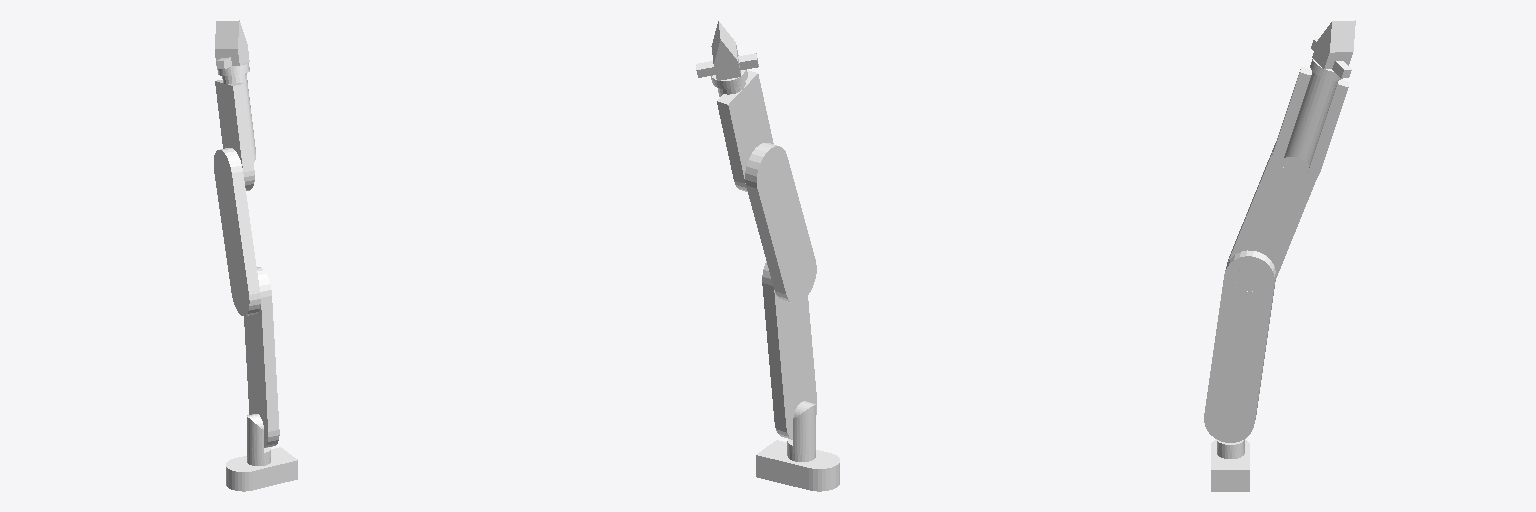
The robot description file, URDF, robot "robot_arm_urdf":
<?xml version="1.0" encoding="utf-8"?>
<!-- This URDF was automatically created by SolidWorks to URDF Exporter! Originally created by [author] ([email redacted]) 
     Commit Version: 1.6.0-4-g7f85cfe  Build Version: 1.6.7995.38578
     For more information, please see http://wiki.ros.org/sw_urdf_exporter -->
<robot
  name="robot_arm_urdf">
<link name="world"/>
  <joint name="base_joint" type="fixed">
    <parent link="world"/>
    <child link="base_link"/>
    <origin rpy="0 0 0" xyz="0.0 0.0 0.17"/>
  </joint>
  <link
    name="base_link">
    <inertial>
      <origin
        xyz="0.0047164 -2.0956E-18 0.032539"
        rpy="0 0 0" />
      <mass
        value="1.2975" />
      <inertia
        ixx="0.001476"
        ixy="-1.2756E-19"
        ixz="1.5537E-05"
        iyy="0.0042174"
        iyz="-3.1508E-20"
        izz="0.004712" />
    </inertial>
    <visual>
      <origin
        xyz="0 0 0"
        rpy="0 0 0" />
      <geometry>
        <mesh
          filename="package://robot_arm_urdf/meshes/base_link.STL" />
      </geometry>
      <material
        name="">
        <color
          rgba="1 1 1 0.35" />
      </material>
    </visual>
    <collision>
      <origin
        xyz="0 0 0"
        rpy="0 0 0" />
      <geometry>
        <mesh
          filename="package://robot_arm_urdf/meshes/base_link.STL" />
      </geometry>
    </collision>
  </link>
  <link
    name="link_1">
    <inertial>
      <origin
        xyz="-0.0013006 0.00013427 0.065249"
        rpy="0 0 0" />
      <mass
        value="0.43177" />
      <inertia
        ixx="0.00069352"
        ixy="1.938E-06"
        ixz="-4.5727E-05"
        iyy="0.00071209"
        iyz="4.7207E-06"
        izz="0.00027594" />
    </inertial>
    <visual>
      <origin
        xyz="0 0 0"
        rpy="0 0 0" />
      <geometry>
        <mesh
          filename="package://robot_arm_urdf/meshes/link_1.STL" />
      </geometry>
      <material
        name="">
        <color
          rgba="1 1 1 0.35" />
      </material>
    </visual>
    <collision>
      <origin
        xyz="0 0 0"
        rpy="0 0 0" />
      <geometry>
        <mesh
          filename="package://robot_arm_urdf/meshes/link_1.STL" />
      </geometry>
    </collision>
  </link>
  <joint
    name="joint_1"
    type="revolute">
    <origin
      xyz="0 0 0.08"
      rpy="0 0 0" />
    <parent
      link="base_link" />
    <child
      link="link_1" />
    <axis
      xyz="0 0 1" />
    <limit
      lower="0"
      upper="0"
      effort="0"
      velocity="0" />
  </joint>
  <link
    name="link_2">
    <inertial>
      <origin
        xyz="0.025681 0.19834 -0.0175"
        rpy="0 0 0" />
      <mass
        value="2.1562" />
      <inertia
        ixx="0.03985"
        ixy="-0.0047194"
        ixz="4.3368E-19"
        iyy="0.0040105"
        iyz="4.9657E-19"
        izz="0.04342" />
    </inertial>
    <visual>
      <origin
        xyz="0 0 0"
        rpy="0 0 0" />
      <geometry>
        <mesh
          filename="package://robot_arm_urdf/meshes/link_2.STL" />
      </geometry>
      <material
        name="">
        <color
          rgba="1 1 1 0.35" />
      </material>
    </visual>
    <collision>
      <origin
        xyz="0 0 0"
        rpy="0 0 0" />
      <geometry>
        <mesh
          filename="package://robot_arm_urdf/meshes/link_2.STL" />
      </geometry>
    </collision>
  </link>
  <joint
    name="joint_2"
    type="revolute">
    <origin
      xyz="0.034815 -0.0035942 0.09"
      rpy="1.5708 0 1.4679" />
    <parent
      link="link_1" />
    <child
      link="link_2" />
    <axis
      xyz="0 0 -1" />
    <limit
      lower="0"
      upper="0"
      effort="0"
      velocity="0" />
  </joint>
  <link
    name="link_3">
    <inertial>
      <origin
        xyz="0.059774 0.16448 -0.048447"
        rpy="0 0 0" />
      <mass
        value="2.4893" />
      <inertia
        ixx="0.042309"
        ixy="-0.014075"
        ixz="5.2909E-17"
        iyy="0.0086947"
        iyz="1.2702E-16"
        izz="0.049871" />
    </inertial>
    <visual>
      <origin
        xyz="0 0 0"
        rpy="0 0 0" />
      <geometry>
        <mesh
          filename="package://robot_arm_urdf/meshes/link_3.STL" />
      </geometry>
      <material
        name="">
        <color
          rgba="1 1 1 0.35" />
      </material>
    </visual>
    <collision>
      <origin
        xyz="0 0 0"
        rpy="0 0 0" />
      <geometry>
        <mesh
          filename="package://robot_arm_urdf/meshes/link_3.STL" />
      </geometry>
    </collision>
  </link>
  <joint
    name="joint_3"
    type="revolute">
    <origin
      xyz="0.051362 0.39669 0"
      rpy="0 0 0" />
    <parent
      link="link_2" />
    <child
      link="link_3" />
    <axis
      xyz="0 0 1" />
    <limit
      lower="0"
      upper="0"
      effort="0"
      velocity="0" />
  </joint>
  <link
    name="link_4">
    <inertial>
      <origin
        xyz="0.038397 0.1283 -0.0082921"
        rpy="0 0 0" />
      <mass
        value="1.981" />
      <inertia
        ixx="0.015797"
        ixy="-0.0039071"
        ixz="-0.0001715"
        iyy="0.0039116"
        iyz="-0.00057309"
        izz="0.018501" />
    </inertial>
    <visual>
      <origin
        xyz="0 0 0"
        rpy="0 0 0" />
      <geometry>
        <mesh
          filename="package://robot_arm_urdf/meshes/link_4.STL" />
      </geometry>
      <material
        name="">
        <color
          rgba="1 1 1 0.35" />
      </material>
    </visual>
    <collision>
      <origin
        xyz="0 0 0"
        rpy="0 0 0" />
      <geometry>
        <mesh
          filename="package://robot_arm_urdf/meshes/link_4.STL" />
      </geometry>
    </collision>
  </link>
  <joint
    name="joint_4"
    type="revolute">
    <origin
      xyz="0.11955 0.32895 0"
      rpy="0 0 0" />
    <parent
      link="link_3" />
    <child
      link="link_4" />
    <axis
      xyz="0 0 1" />
    <limit
      lower="0"
      upper="0"
      effort="0"
      velocity="0" />
  </joint>
  <link
    name="link_5">
    <inertial>
      <origin
        xyz="-5.5511E-17 0.0024682 4.1633E-17"
        rpy="0 0 0" />
      <mass
        value="0.16754" />
      <inertia
        ixx="0.00020481"
        ixy="2.7444E-19"
        ixz="-8.9295E-05"
        iyy="0.00030256"
        iyz="3.7862E-19"
        izz="0.00016552" />
    </inertial>
    <visual>
      <origin
        xyz="0 0 0"
        rpy="0 0 0" />
      <geometry>
        <mesh
          filename="package://robot_arm_urdf/meshes/link_5.STL" />
      </geometry>
      <material
        name="">
        <color
          rgba="1 1 1 0.35" />
      </material>
    </visual>
    <collision>
      <origin
        xyz="0 0 0"
        rpy="0 0 0" />
      <geometry>
        <mesh
          filename="package://robot_arm_urdf/meshes/link_5.STL" />
      </geometry>
    </collision>
  </link>
  <joint
    name="joint_5"
    type="revolute">
    <origin
      xyz="0.086014 0.28741 0"
      rpy="0 0 -0.29079" />
    <parent
      link="link_4" />
    <child
      link="link_5" />
    <axis
      xyz="0 1 0" />
    <limit
      lower="0"
      upper="0"
      effort="0"
      velocity="0" />
  </joint>
  <link
    name="link_6">
    <inertial>
      <origin
        xyz="-0.0079143 0.025 -0.0098448"
        rpy="0 0 0" />
      <mass
        value="0.19059" />
      <inertia
        ixx="0.00020208"
        ixy="-1.0606E-05"
        ixz="4.1251E-05"
        iyy="0.00011093"
        iyz="-1.3193E-05"
        izz="0.00022023" />
    </inertial>
    <visual>
      <origin
        xyz="0 0 0"
        rpy="0 0 0" />
      <geometry>
        <mesh
          filename="package://robot_arm_urdf/meshes/link_6.STL" />
      </geometry>
      <material
        name="">
        <color
          rgba="1 1 1 0.35" />
      </material>
    </visual>
    <collision>
      <origin
        xyz="0 0 0"
        rpy="0 0 0" />
      <geometry>
        <mesh
          filename="package://robot_arm_urdf/meshes/link_6.STL" />
      </geometry>
    </collision>
  </link>
  <joint
    name="joint_6"
    type="prismatic">
    <origin
      xyz="0 0.025 0"
      rpy="0 0 0" />
    <parent
      link="link_5" />
    <child
      link="link_6" />
    <axis
      xyz="-0.62655 0 -0.77938" />
    <limit
      lower="0"
      upper="0"
      effort="0"
      velocity="0" />
  </joint>
  <link
    name="link_7">
    <inertial>
      <origin
        xyz="0.0079143 0.025 0.0098448"
        rpy="0 0 0" />
      <mass
        value="0.19059" />
      <inertia
        ixx="0.00020208"
        ixy="1.0606E-05"
        ixz="4.1251E-05"
        iyy="0.00011093"
        iyz="1.3193E-05"
        izz="0.00022023" />
    </inertial>
    <visual>
      <origin
        xyz="0 0 0"
        rpy="0 0 0" />
      <geometry>
        <mesh
          filename="package://robot_arm_urdf/meshes/link_7.STL" />
      </geometry>
      <material
        name="">
        <color
          rgba="1 1 1 0.35" />
      </material>
    </visual>
    <collision>
      <origin
        xyz="0 0 0"
        rpy="0 0 0" />
      <geometry>
        <mesh
          filename="package://robot_arm_urdf/meshes/link_7.STL" />
      </geometry>
    </collision>
  </link>
  <joint
    name="joint_7"
    type="prismatic">
    <origin
      xyz="0 0.025 0"
      rpy="0 0 0" />
    <parent
      link="link_5" />
    <child
      link="link_7" />
    <axis
      xyz="-0.62655 0 -0.77938" />
    <limit
      lower="0"
      upper="0"
      effort="0"
      velocity="0" />
  </joint>
<transmission name="link_1_trans">
  <type>transmission_interface/SimpleTransmission</type>
  <joint name="joint_1">
  <hardwareInterface>hardware_interface/PositionJointInterface</hardwareInterface></joint>
  <actuator name="link_1_motor">
    <hardwareInterface>hardware_interface/PositionJointInterface</hardwareInterface> <mechanicalReduction>1</mechanicalReduction>
  </actuator>
</transmission>
<transmission name="link_2_trans">
  <type>transmission_interface/SimpleTransmission</type>
  <joint name="joint_2">
  <hardwareInterface>hardware_interface/PositionJointInterface</hardwareInterface></joint>
  <actuator name="link_2_motor">
    <hardwareInterface>hardware_interface/PositionJointInterface</hardwareInterface> <mechanicalReduction>1</mechanicalReduction>
  </actuator>
</transmission>
<transmission name="link_3_trans">
  <type>transmission_interface/SimpleTransmission</type>
  <joint name="joint_3">
  <hardwareInterface>hardware_interface/PositionJointInterface</hardwareInterface></joint>
  <actuator name="link_3_motor">
    <hardwareInterface>hardware_interface/PositionJointInterface</hardwareInterface> <mechanicalReduction>1</mechanicalReduction>
  </actuator>
</transmission>
<transmission name="link_4_trans">
  <type>transmission_interface/SimpleTransmission</type>
  <joint name="joint_4">
  <hardwareInterface>hardware_interface/PositionJointInterface</hardwareInterface></joint>
  <actuator name="link_4_motor">
    <hardwareInterface>hardware_interface/PositionJointInterface</hardwareInterface> <mechanicalReduction>1</mechanicalReduction>
  </actuator>
</transmission>
<transmission name="link_5_trans">
  <type>transmission_interface/SimpleTransmission</type>
  <joint name="joint_5">
  <hardwareInterface>hardware_interface/PositionJointInterface</hardwareInterface></joint>
  <actuator name="link_5_motor">
    <hardwareInterface>hardware_interface/PositionJointInterface</hardwareInterface> <mechanicalReduction>1</mechanicalReduction>
  </actuator>
</transmission>
<transmission name="link_6_trans">
  <type>transmission_interface/SimpleTransmission</type>
  <joint name="joint_6">
  <hardwareInterface>hardware_interface/PositionJointInterface</hardwareInterface></joint>
  <actuator name="link_6_motor">
    <hardwareInterface>hardware_interface/PositionJointInterface</hardwareInterface> <mechanicalReduction>1</mechanicalReduction>
  </actuator>
</transmission>
<transmission name="link_7_trans">
  <type>transmission_interface/SimpleTransmission</type>
  <joint name="joint_7">
  <hardwareInterface>hardware_interface/PositionJointInterface</hardwareInterface></joint>
  <actuator name="link_7_motor">
    <hardwareInterface>hardware_interface/PositionJointInterface</hardwareInterface> <mechanicalReduction>1</mechanicalReduction>
  </actuator>
</transmission>
<gazebo>
  <plugin name="control"
    filename="libgazebo_ros_control.so">
    <robotNamespace>/</robotNamespace>
  </plugin>
</gazebo>
<gazebo reference="link_1">
  <selfCollide>true</selfCollide>
</gazebo>
<gazebo reference="link_2">
  <selfCollide>true</selfCollide>
</gazebo>
<gazebo reference="link_3">
  <selfCollide>true</selfCollide>
</gazebo>
<gazebo reference="link_4">
  <selfCollide>true</selfCollide>
</gazebo>
<gazebo reference="link_5">
  <selfCollide>true</selfCollide>
</gazebo>
<gazebo reference="link_6">
  <selfCollide>true</selfCollide>
</gazebo>
<gazebo reference="link_7">
  <selfCollide>true</selfCollide>
</gazebo>
</robot>

--- Facts derived from the render (not from the file) ---
The picture shows the robot from 3 angles, left to right: view 1: azimuth 30°, elevation 25°; view 2: azimuth 150°, elevation 25°; view 3: azimuth 270°, elevation 25°; orthographic projection.
Model robot_arm_urdf with 9 links and 8 joints (5 revolute, 2 prismatic, 1 fixed), rooted at world, posed all joints at 0.
Links seen in each view (by area): view 1: link_3, link_2, link_4, base_link, link_6, link_1; view 2: link_3, link_2, link_4, base_link, link_1, link_5, link_6, link_7; view 3: link_2, link_4, link_3, base_link, link_7, link_1, link_5.
Link boxes in pixels (x1=…): link_3: x1=214, y1=148, x2=260, y2=315; link_2: x1=244, y1=267, x2=279, y2=447; link_4: x1=215, y1=73, x2=255, y2=190; base_link: x1=226, y1=447, x2=297, y2=491; link_6: x1=215, y1=20, x2=244, y2=65; link_1: x1=247, y1=414, x2=270, y2=459; link_3: x1=745, y1=143, x2=816, y2=303; link_2: x1=762, y1=261, x2=816, y2=439; link_4: x1=717, y1=70, x2=773, y2=191; base_link: x1=756, y1=440, x2=839, y2=491; link_1: x1=787, y1=401, x2=815, y2=454; link_5: x1=696, y1=53, x2=758, y2=88; link_6: x1=719, y1=22, x2=740, y2=78; link_7: x1=711, y1=21, x2=728, y2=80; link_2: x1=1204, y1=250, x2=1275, y2=442; link_4: x1=1271, y1=66, x2=1349, y2=186; link_3: x1=1226, y1=143, x2=1316, y2=291; base_link: x1=1211, y1=439, x2=1249, y2=491; link_7: x1=1318, y1=20, x2=1355, y2=69; link_1: x1=1216, y1=408, x2=1244, y2=451; link_5: x1=1310, y1=39, x2=1351, y2=80.
Size in the robot's own frame: 0.2313 by 0.3856 by 1.31 metres.
8 mesh visuals loaded from 8 distinct referenced files (8 binary STL).